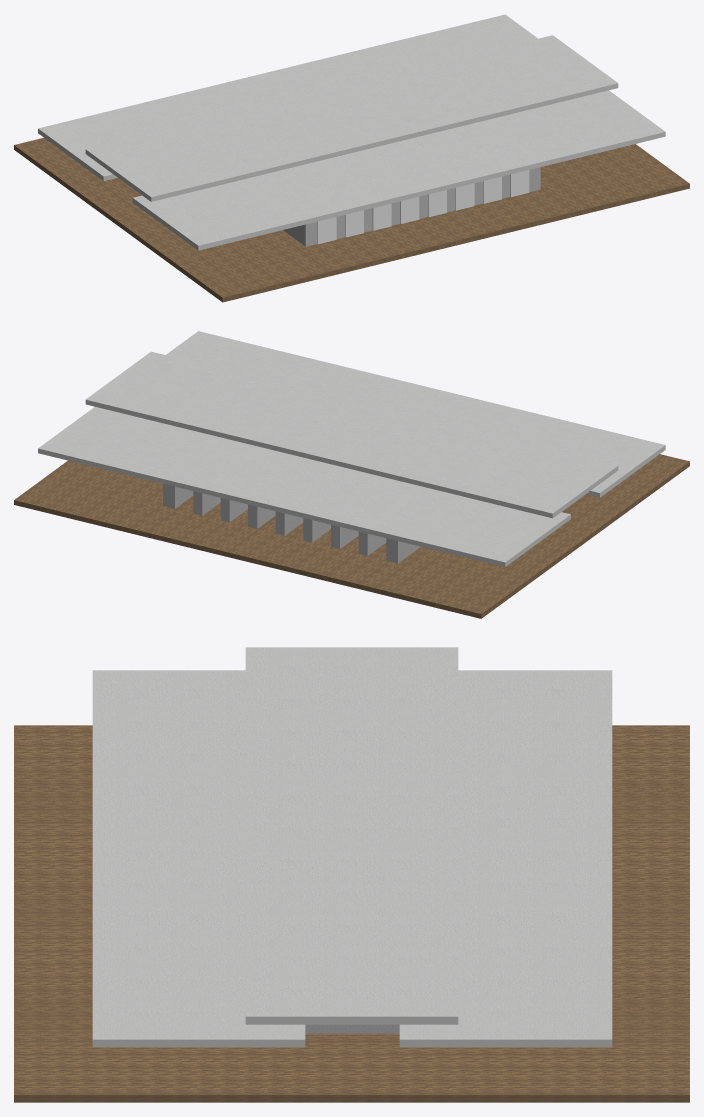
The model's file is 2o piso final.fbx.
3 views of the same model, one above another, from view 1: azimuth 30°, elevation 25°; view 2: azimuth 150°, elevation 25°; view 3: azimuth 270°, elevation 25° (orthographic). The views are drawn at different scales.
Visible parts, largest first — view 1: Piso 2, portal_plane.008, portal_plane.003, portal_plane.006, portal_plane, portal_plane.004, portal_plane.002, portal_plane.005; view 2: Piso 2; view 3: Piso 2.
Part boxes in pixels (box(x1,y1,x2,y2)): Piso 2: box(14, 14, 689, 302); portal_plane.008: box(510, 170, 529, 197); portal_plane.003: box(372, 203, 391, 230); portal_plane.006: box(455, 183, 474, 210); portal_plane: box(317, 217, 336, 244); portal_plane.004: box(400, 197, 419, 223); portal_plane.002: box(345, 210, 363, 237); portal_plane.005: box(428, 190, 446, 217); Piso 2: box(14, 331, 689, 618); Piso 2: box(14, 647, 689, 1102).
Size of the model in its own units: 50.72 by 5.49 by 39.23.
